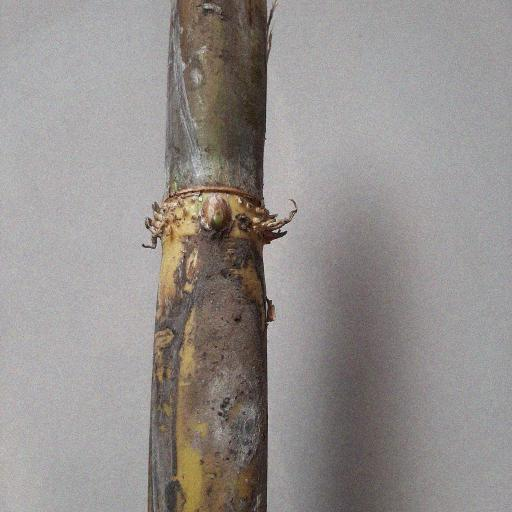Bud: (200, 194, 233, 235)
